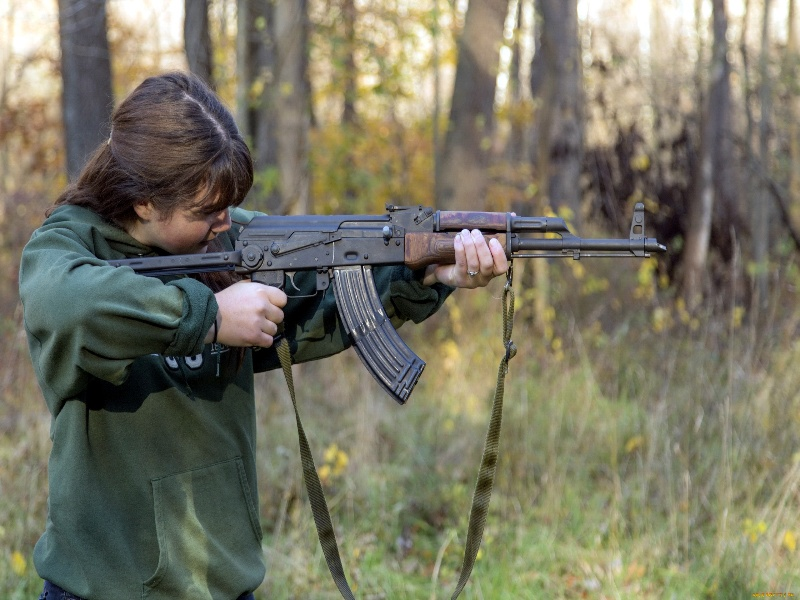person: (19, 73, 509, 600)
weapon: (101, 203, 667, 403)
